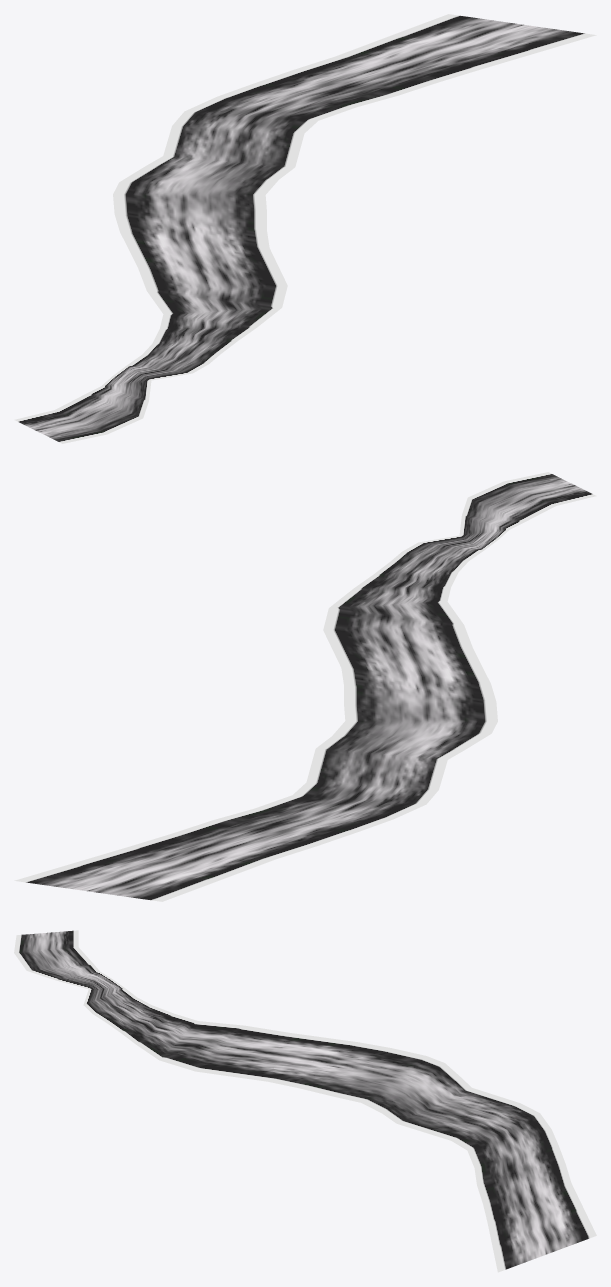
File: shuipian04.FBX
3 renders of one model, top to bottom at view 1: azimuth 30°, elevation 25°; view 2: azimuth 210°, elevation 25°; view 3: azimuth 270°, elevation 25°, orthographic. The views are drawn at different scales.
Visible parts, largest first — view 1: Plane002; view 2: Plane002; view 3: Plane002.
Boxes of the visible parts, left/top/right/bottom form: Plane002: left=14, top=14, right=596, bottom=443; Plane002: left=14, top=472, right=596, bottom=901; Plane002: left=14, top=930, right=596, bottom=1272.
Bounding box in the file's own units: 43.9 × 8.95e-15 × 31.6.
1 material, 1 textured.
